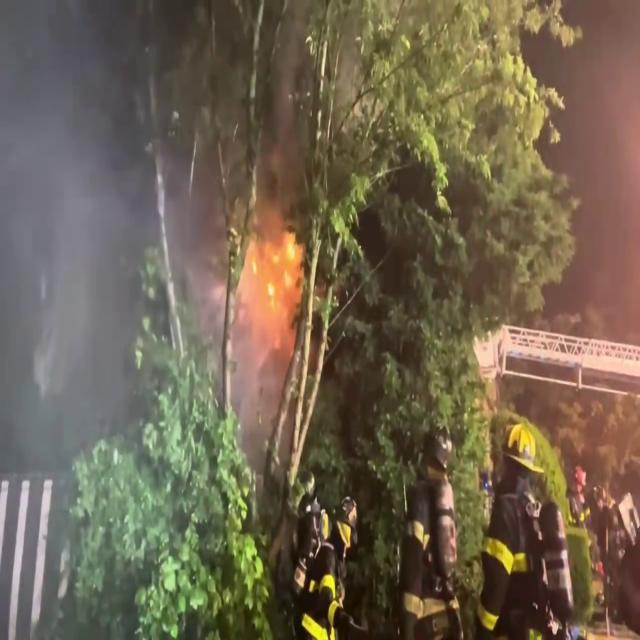Fire: (244, 216, 308, 324)
Smoke: (0, 0, 157, 434)
